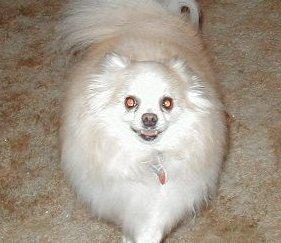dog-pomeranian: (100, 52, 188, 143)
